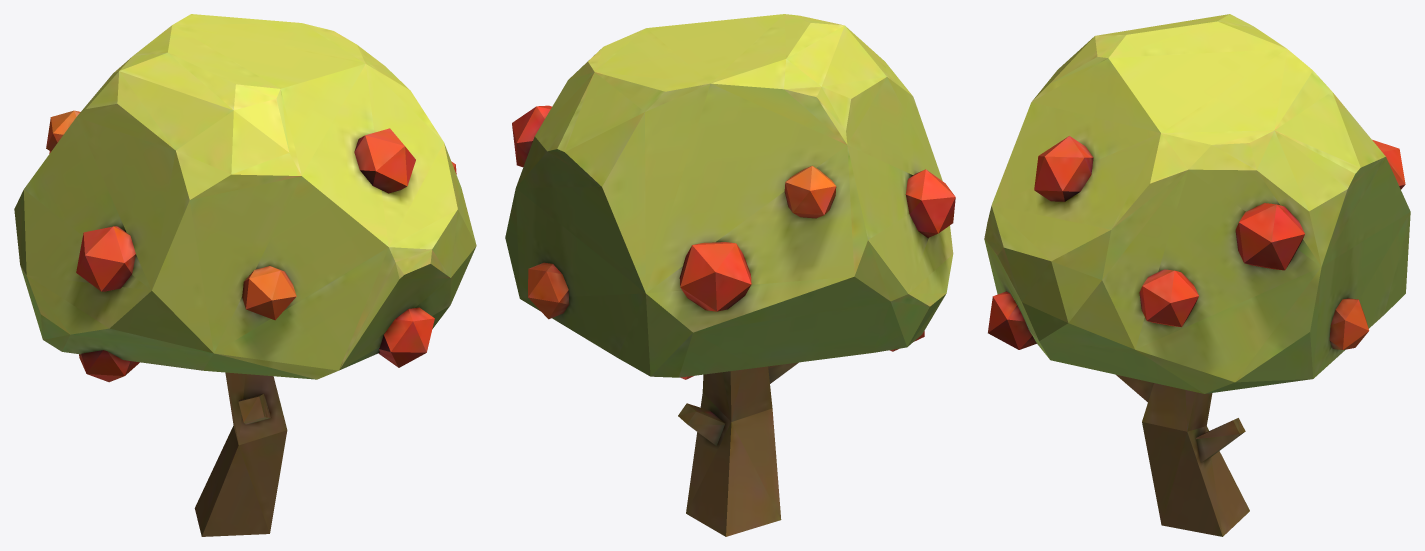
The model's file is apple1.glb.
The picture shows the model from 3 angles, left to right: view 1: azimuth 30°, elevation 25°; view 2: azimuth 150°, elevation 25°; view 3: azimuth 270°, elevation 25°; orthographic projection. The views are drawn at different scales.
Parts seen in each view (by area): view 1: apple_tree; view 2: apple_tree; view 3: apple_tree.
Boxes of the visible parts, x1,y1,x2,y2 form: apple_tree: [14, 14, 476, 536]; apple_tree: [505, 14, 955, 536]; apple_tree: [984, 14, 1410, 536].
Size of the model in its own units: 1.59 by 1.81 by 1.5.
Materials: 1 (1 with a texture image).
